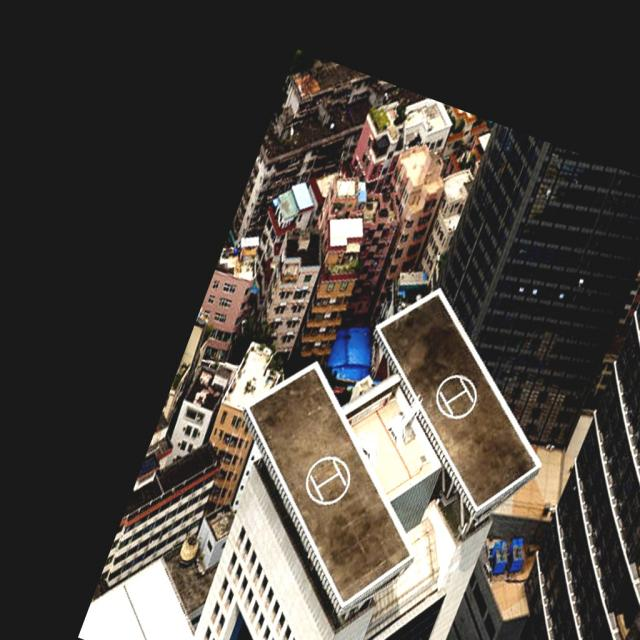helipad: (303, 454, 352, 506), (433, 372, 478, 420)
